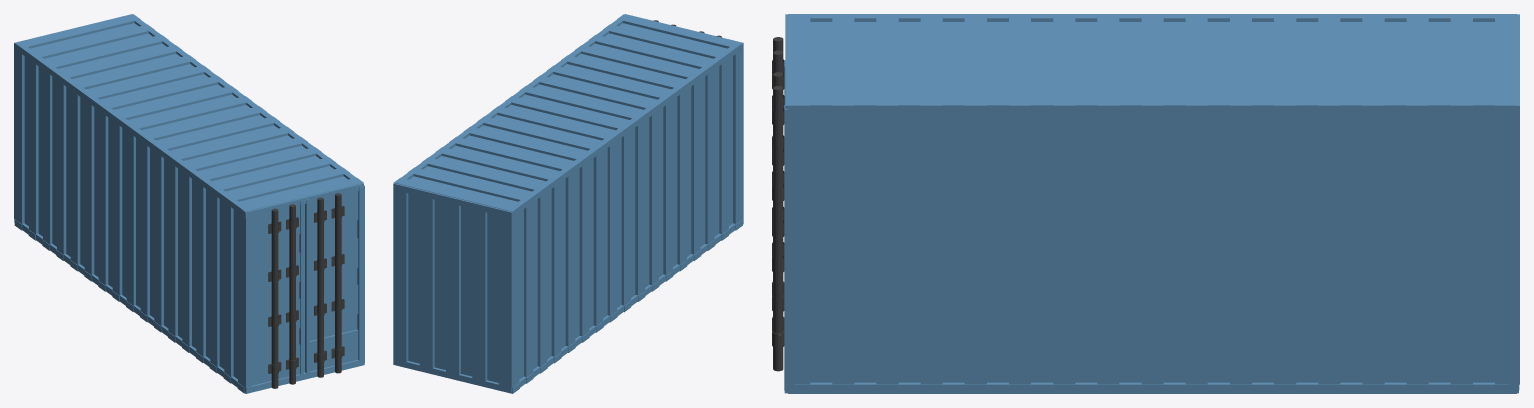
The model's file is containerfix3.fbx.
3 views of the same model, side by side, from view 1: azimuth 30°, elevation 25°; view 2: azimuth 150°, elevation 25°; view 3: azimuth 270°, elevation 25° (orthographic). The views are drawn at different scales.
Parts seen in each view (by area): view 1: Cube.009, Cube, Cube.014, Cube.003, Cube.011, Cube.002, Cube.008, Cube.010, Cube.012, Cube.006, Cube.007; view 2: Cube.009, Cube, Cube.012, Cube.011, Cube.008, Cube.010, Cube.013, Cube.003; view 3: Cube, Cube.011, Cube.009, Cube.010, Cube.014, Cube.002, Cube.004.
Boxes of the visible parts, x1,y1,x2,y2 form: Cube.009: (15,14,363,384); Cube: (24,23,356,379); Cube.014: (251,191,358,388); Cube.003: (242,213,251,391); Cube.011: (128,14,360,329); Cube.002: (358,185,364,364); Cube.008: (17,221,245,392); Cube.010: (14,219,245,393); Cube.012: (14,14,132,220); Cube.006: (242,183,363,218); Cube.007: (245,360,364,393); Cube.009: (394,14,742,385); Cube: (408,23,732,382); Cube.012: (393,183,514,388); Cube.011: (394,19,622,183); Cube.008: (515,221,739,387); Cube.010: (512,219,742,393); Cube.013: (393,361,512,393); Cube.003: (740,49,743,222); Cube: (810,22,1494,382); Cube.011: (794,101,1516,384); Cube.009: (788,14,1516,114); Cube.010: (788,382,1516,393); Cube.014: (772,37,785,371); Cube.002: (784,105,794,390); Cube.004: (1509,109,1519,389).
Size of the model in its own units: 422 by 616 by 1446.
